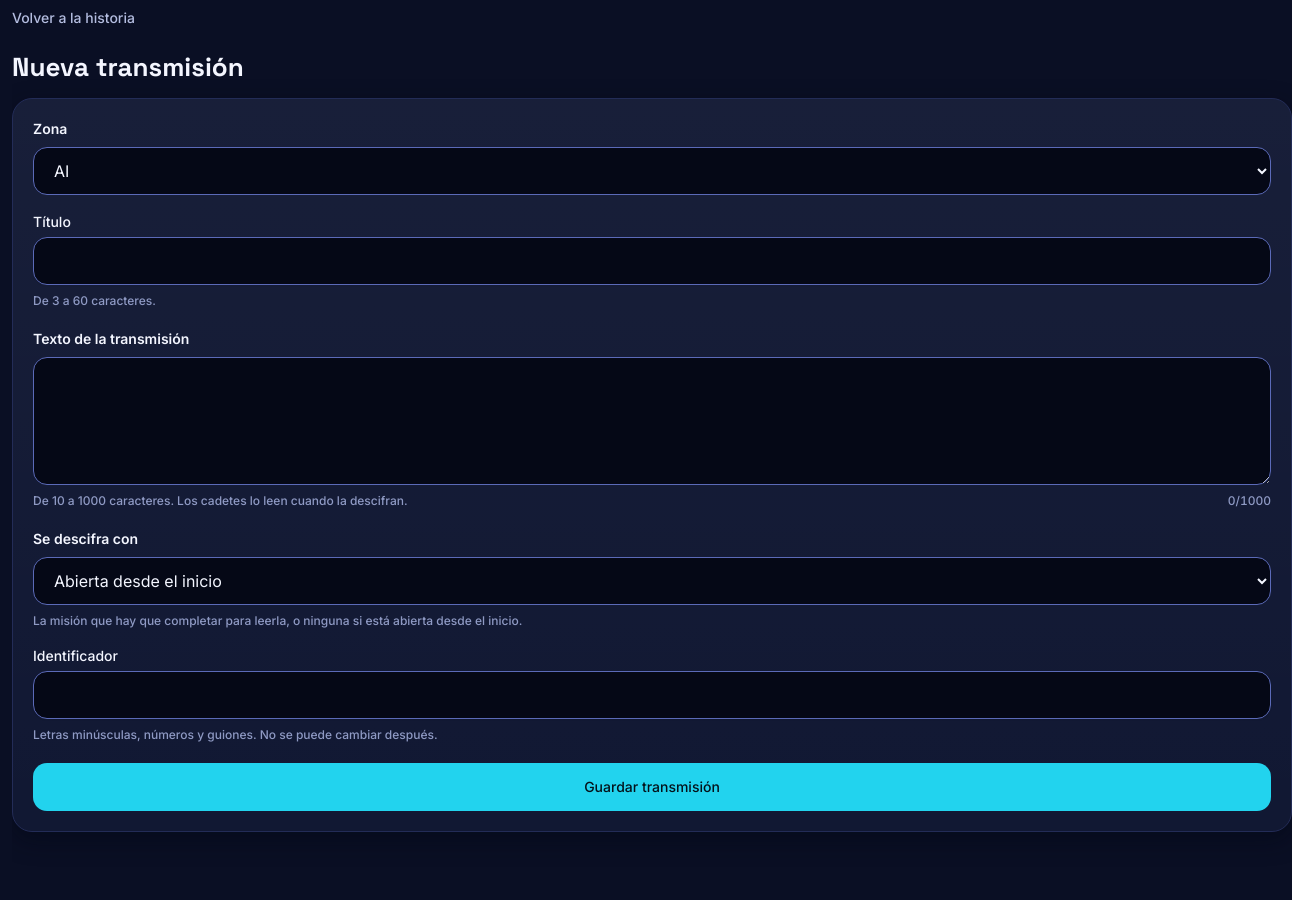
CommunicationForm › sends no mission for one open from the start, and checks the fields first
Expected: the dropdown labelled "Se descifra con" shows "Abierta desde el inicio", [33,557,1271,605]
In the field labelled "Título": (652, 261) [33,237,1271,285], type "Señal"
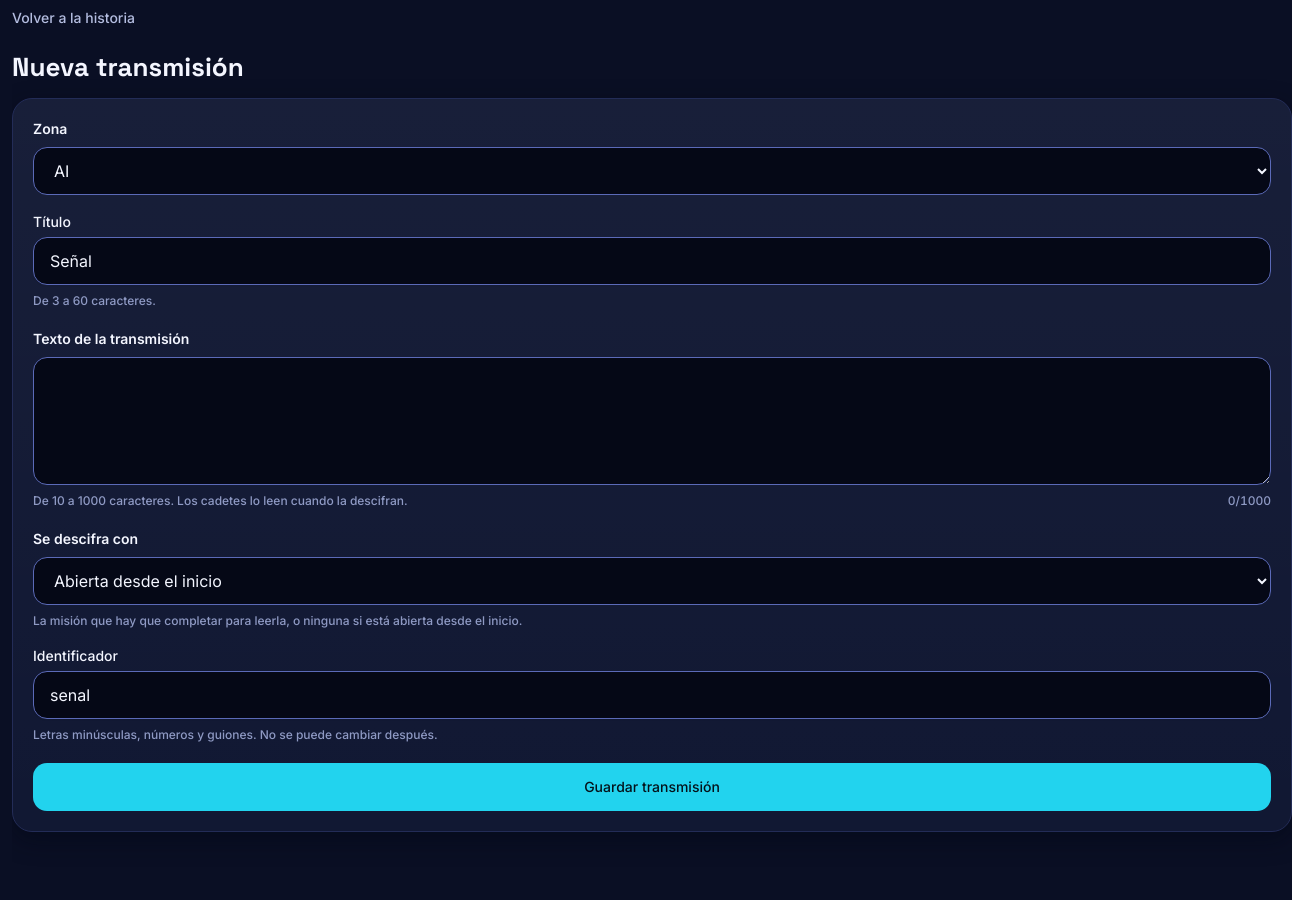
In the text box labelled "Texto de la transmisión": (652, 421) [33,357,1271,485], type "corto"
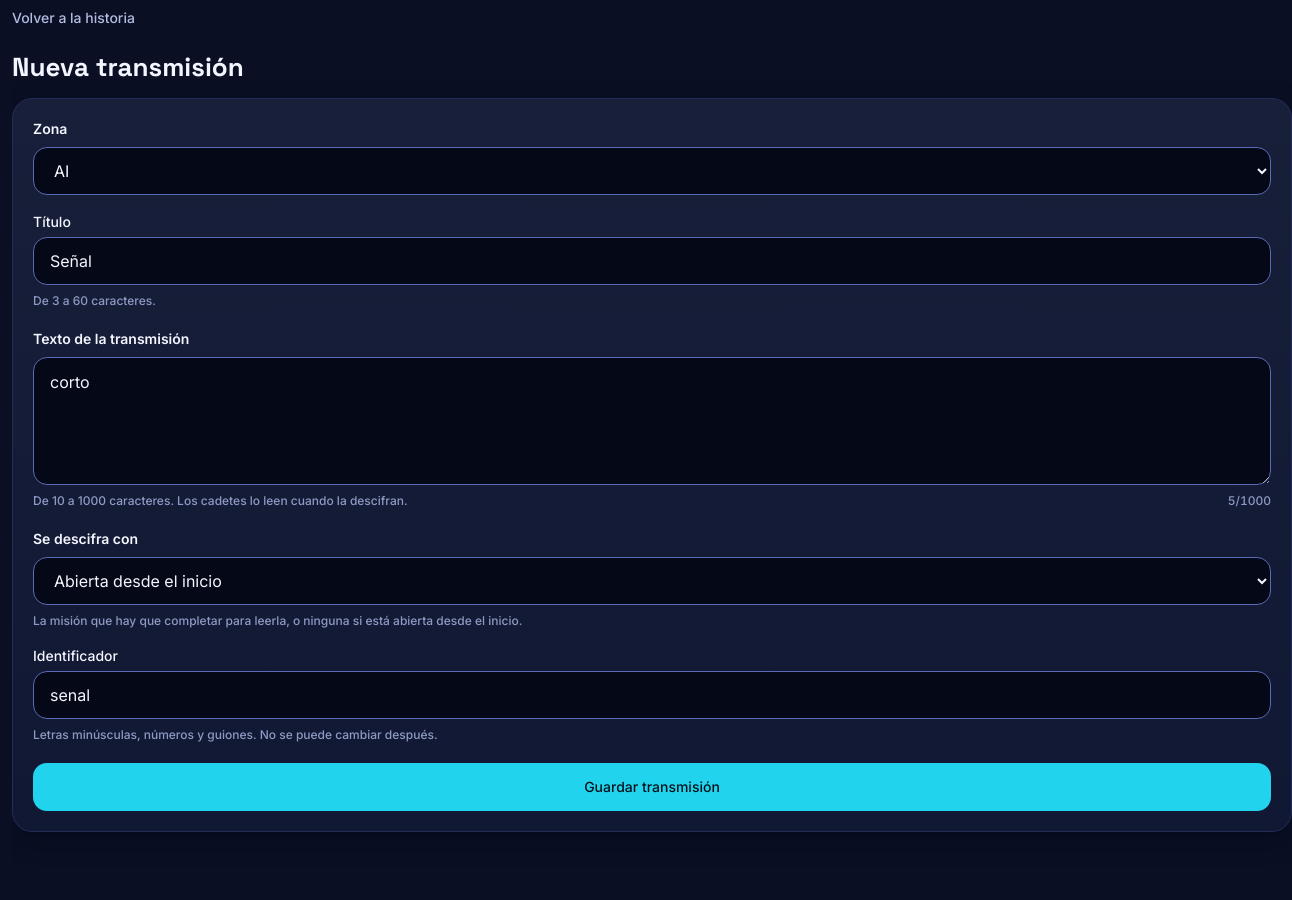
Click the button "Guardar transmisión": (652, 787) [33,763,1271,811]
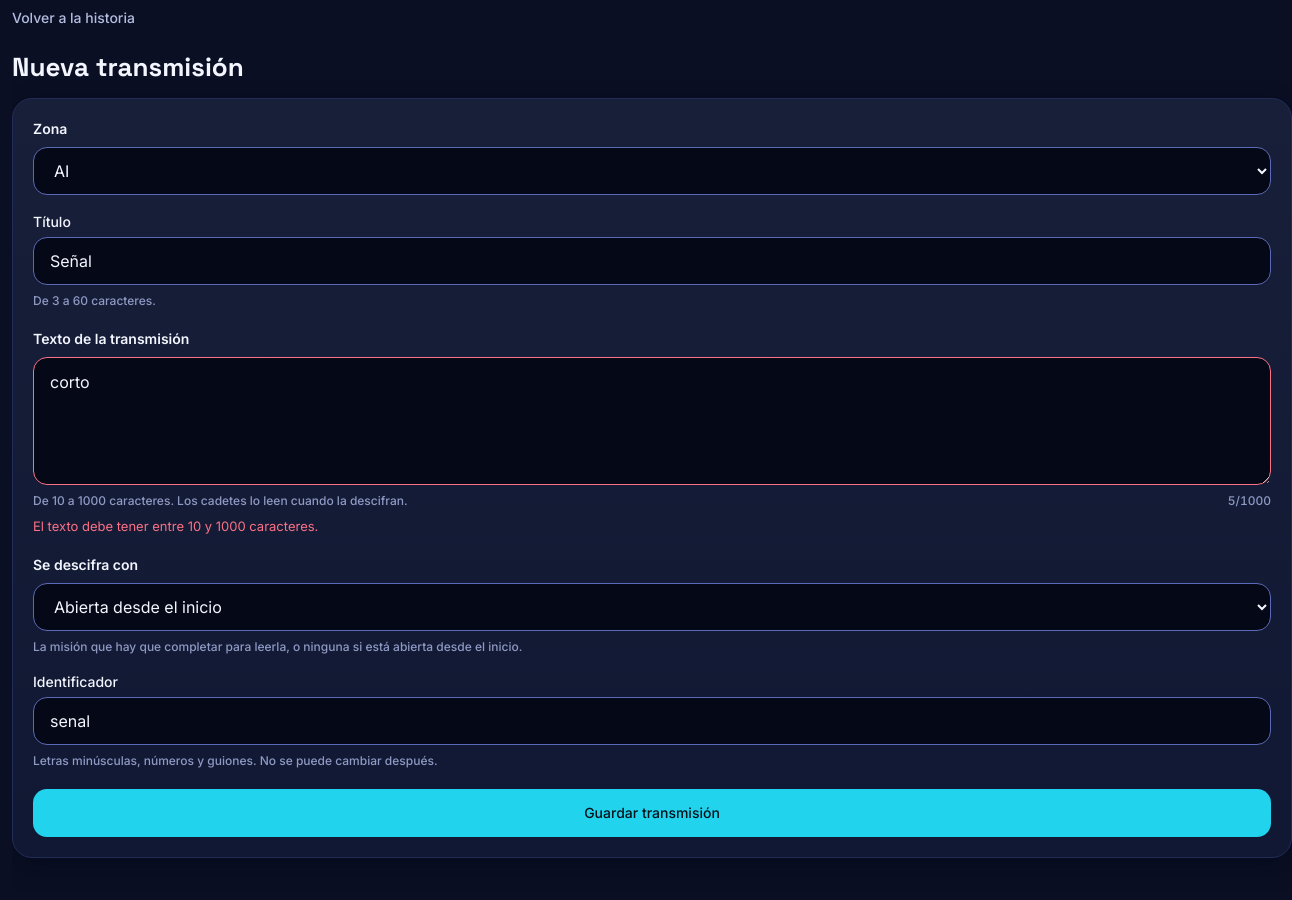
Expected: the text "El texto debe tener entre 10 y 1000 caracteres." is shown, [33,518,318,534]
